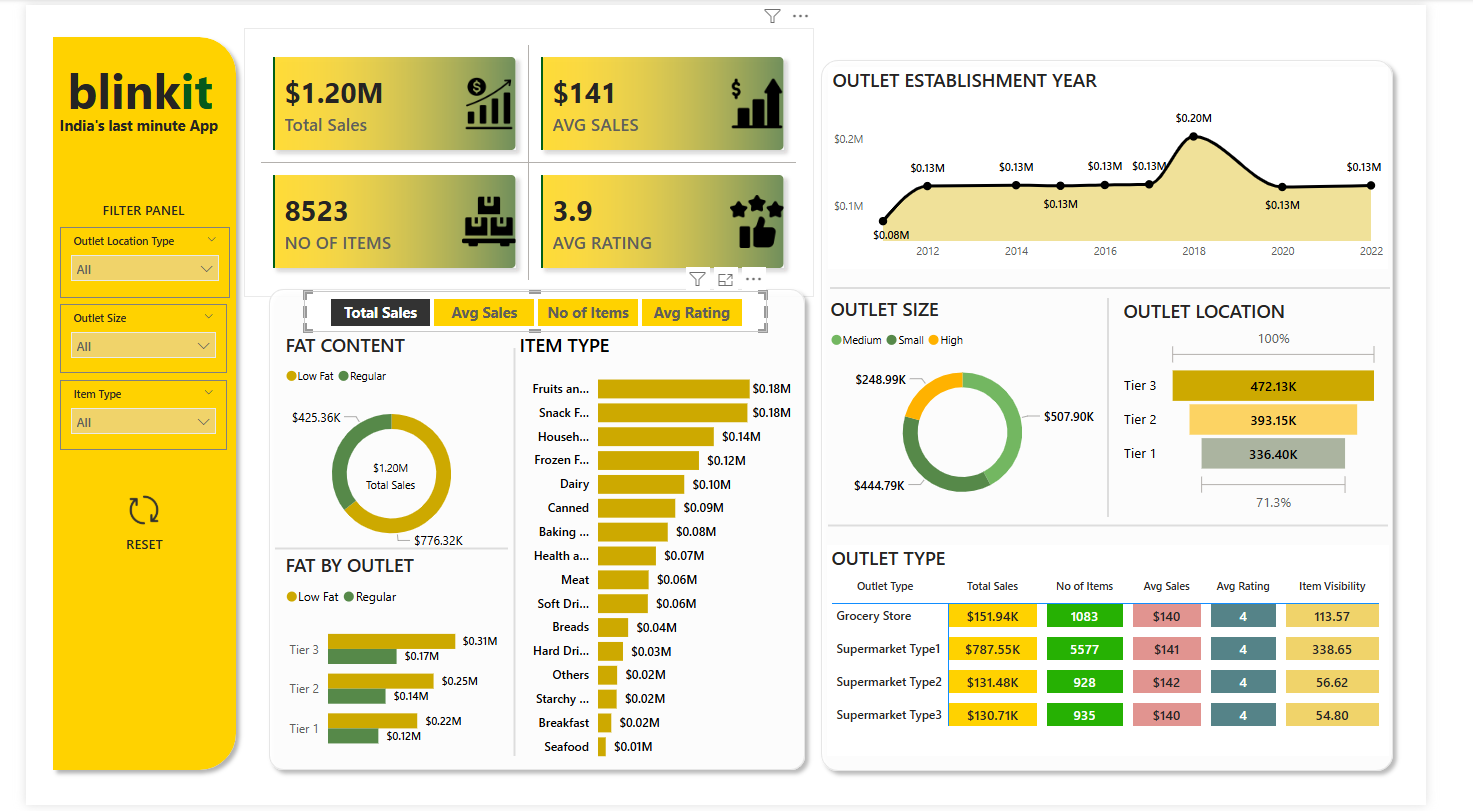

The page's visual inventory and layout, read from the dashboard file:
{"tool":"powerbi","page":{"name":"Page 1","canvas":[1400,800],"ordinal":0},"visuals":[{"type":"shape","box":[17.8,22.9,201.1,750.9],"z":0},{"type":"textbox","box":[37,46.8,163.8,78],"z":1000},{"type":"textbox","box":[29.2,105.3,179.4,85.8],"z":2000},{"type":"cardVisual","fields":{"Data":["BlinkIT Grocery Data.Total Sales","BlinkIT Grocery Data.Avg Sales","BlinkIT Grocery Data.No of Items","BlinkIT Grocery Data.Avg Rating"]},"box":[218.4,23.4,569.4,269.1],"z":3000},{"type":"shape","box":[234,274.9,553.8,499.2],"z":4000},{"type":"donutChart","title":"FAT CONTENT","fields":{"Y":["BlinkIT Grocery Data.Total Sales"],"Category":["BlinkIT Grocery Data.Item Fat Content"]},"box":[255.2,327.1,220.7,230.5],"z":5000},{"type":"slicer","fields":{"Values":["Metrics.Metrics"]},"box":[278.3,285.8,463.1,40.8],"z":6000},{"type":"cardVisual","fields":{"Data":["BlinkIT Grocery Data.Total Sales"]},"box":[310.3,429.6,109.4,81.8],"z":7000},{"type":"clusteredBarChart","title":"FAT BY OUTLET","fields":{"Y":["BlinkIT Grocery Data.Total Sales"],"Category":["BlinkIT Grocery Data.Outlet Location Type"],"Series":["BlinkIT Grocery Data.Item Fat Content"]},"box":[255.2,546.8,220.7,213.8],"z":8000},{"type":"shape","box":[249.3,524.1,232.5,38.4],"z":9000},{"type":"shape","box":[481.8,342.9,12.8,407.9],"z":10000},{"type":"barChart","title":"ITEM TYPE","fields":{"Y":["BlinkIT Grocery Data.Total Sales"],"Category":["BlinkIT Grocery Data.Item Type"]},"box":[488.7,327.1,281.8,438.4],"z":11000},{"type":"shape","box":[785.8,45.6,590,729.5],"z":12000},{"type":"lineChart","title":"OUTLET ESTABLISHMENT YEAR","fields":{"Y":["BlinkIT Grocery Data.Total Sales"],"Category":["BlinkIT Grocery Data.Outlet Establishment Year"]},"box":[802,62.1,559.6,202],"z":13000},{"type":"donutChart","title":"OUTLET SIZE","fields":{"Y":["BlinkIT Grocery Data.Total Sales"],"Category":["BlinkIT Grocery Data.Outlet Size"]},"box":[800,290.6,272.9,220.7],"z":13001},{"type":"shape","box":[803.9,264,559.6,38.4],"z":13002},{"type":"shape","box":[1073.9,292.6,15.8,219.7],"z":13003},{"type":"funnel","title":"OUTLET LOCATION","fields":{"Y":["Sum(BlinkIT Grocery Data.Sales)"],"Category":["BlinkIT Grocery Data.Outlet Location Type"]},"box":[1092.6,292.6,265,218.7],"z":13004},{"type":"shape","box":[802,501.5,559.6,38.4],"z":13005},{"type":"pivotTable","title":"OUTLET TYPE","fields":{"Rows":["BlinkIT Grocery Data.Outlet Type"],"Values":["BlinkIT Grocery Data.Total Sales","BlinkIT Grocery Data.No of Items","BlinkIT Grocery Data.Avg Sales","BlinkIT Grocery Data.Avg Rating","Sum(BlinkIT Grocery Data.Item Visibility)"]},"box":[801,539.9,561.6,210.8],"z":13006},{"type":"slicer","fields":{"Values":["BlinkIT Grocery Data.Outlet Location Type"]},"box":[34.5,221.7,169.5,70.9],"z":13007},{"type":"slicer","fields":{"Values":["BlinkIT Grocery Data.Outlet Size"]},"box":[34.5,298.5,166.5,70],"z":13008},{"type":"slicer","fields":{"Values":["BlinkIT Grocery Data.Item Type"]},"box":[34.5,375.4,166.5,70],"z":13009},{"type":"textbox","box":[67,191.1,102.5,27.6],"z":13010},{"type":"image","box":[101,465.2,34.4,78.4],"z":13013},{"type":"textbox","box":[67.7,525.4,102.1,27.9],"z":13014}]}

Visuals, with their boxes on the page's 1400x800 design canvas (x1, y1, x2, y2). These are canvas units, not pixel positions in the 1473x811 screenshot, which may show the page scaled, cropped or inside an application window:
shape: crop(18, 23, 219, 774)
textbox: crop(37, 47, 201, 125)
textbox: crop(29, 105, 209, 191)
cardVisual - BlinkIT Grocery Data.Total Sales x BlinkIT Grocery Data.Avg Sales: crop(218, 23, 788, 292)
shape: crop(234, 275, 788, 774)
"FAT CONTENT" donutChart: crop(255, 327, 476, 558)
slicer - Metrics.Metrics: crop(278, 286, 741, 327)
cardVisual - BlinkIT Grocery Data.Total Sales: crop(310, 430, 420, 511)
"FAT BY OUTLET" clusteredBarChart: crop(255, 547, 476, 761)
shape: crop(249, 524, 482, 562)
shape: crop(482, 343, 495, 751)
"ITEM TYPE" barChart: crop(489, 327, 770, 766)
shape: crop(786, 46, 1376, 775)
"OUTLET ESTABLISHMENT YEAR" lineChart: crop(802, 62, 1362, 264)
"OUTLET SIZE" donutChart: crop(800, 291, 1073, 511)
shape: crop(804, 264, 1364, 302)
shape: crop(1074, 293, 1090, 512)
"OUTLET LOCATION" funnel: crop(1093, 293, 1358, 511)
shape: crop(802, 502, 1362, 540)
"OUTLET TYPE" pivotTable: crop(801, 540, 1363, 751)
slicer - BlinkIT Grocery Data.Outlet Location Type: crop(34, 222, 204, 293)
slicer - BlinkIT Grocery Data.Outlet Size: crop(34, 298, 201, 368)
slicer - BlinkIT Grocery Data.Item Type: crop(34, 375, 201, 445)
textbox: crop(67, 191, 170, 219)
image: crop(101, 465, 135, 544)
textbox: crop(68, 525, 170, 553)
